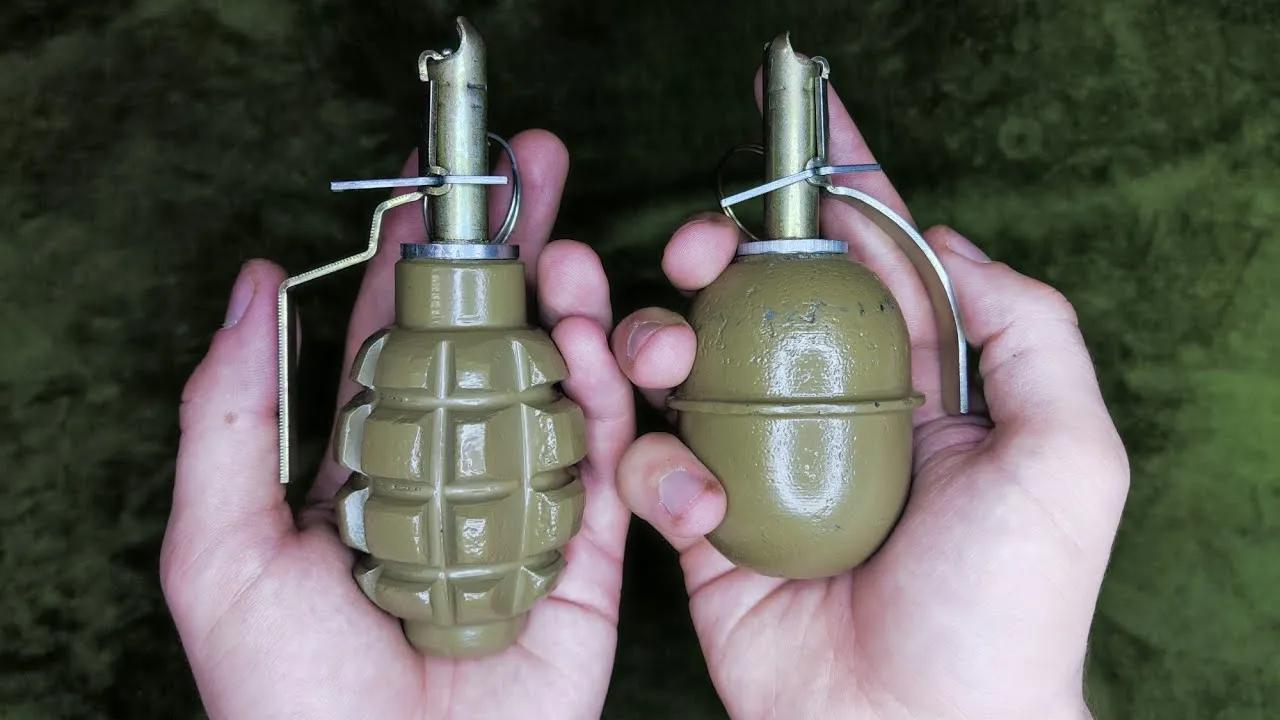F1: (276, 18, 588, 656)
RGD 5: (664, 30, 966, 583)
